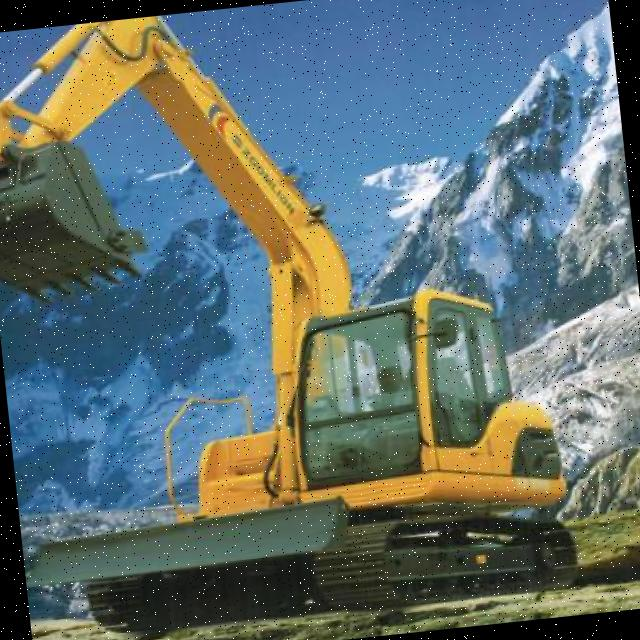Excavator: (0, 0, 579, 640)
